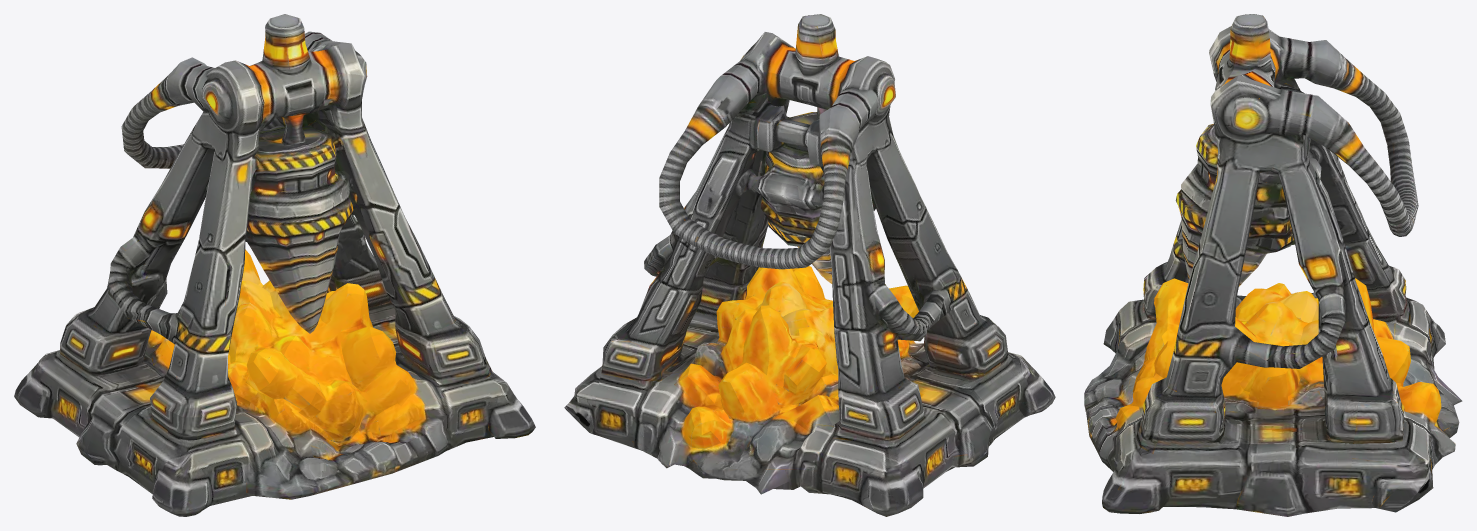
The model's file is gold_mine.glb.
3 views of the same model, side by side, from view 1: azimuth 30°, elevation 25°; view 2: azimuth 150°, elevation 25°; view 3: azimuth 270°, elevation 25° (orthographic). The views are drawn at different scales.
Visible parts, largest first — view 1: Mesh0; view 2: Mesh0; view 3: Mesh0.
Part boxes in pixels (x1,y1,x2,y2): Mesh0: [14, 14, 535, 516]; Mesh0: [564, 14, 1055, 516]; Mesh0: [1084, 14, 1462, 516].
Size of the model in its own units: 1.84 by 1.91 by 1.61.
1 material, 1 textured.
